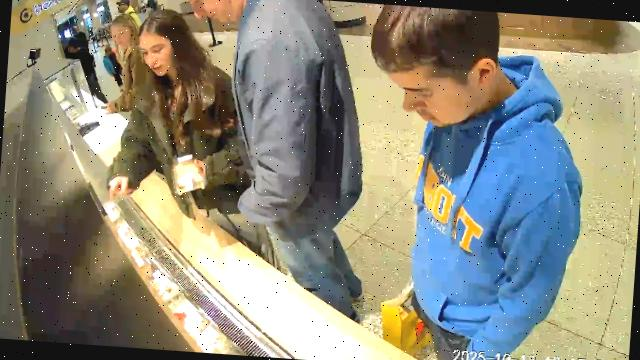sushi-box: (172, 153, 206, 195)
